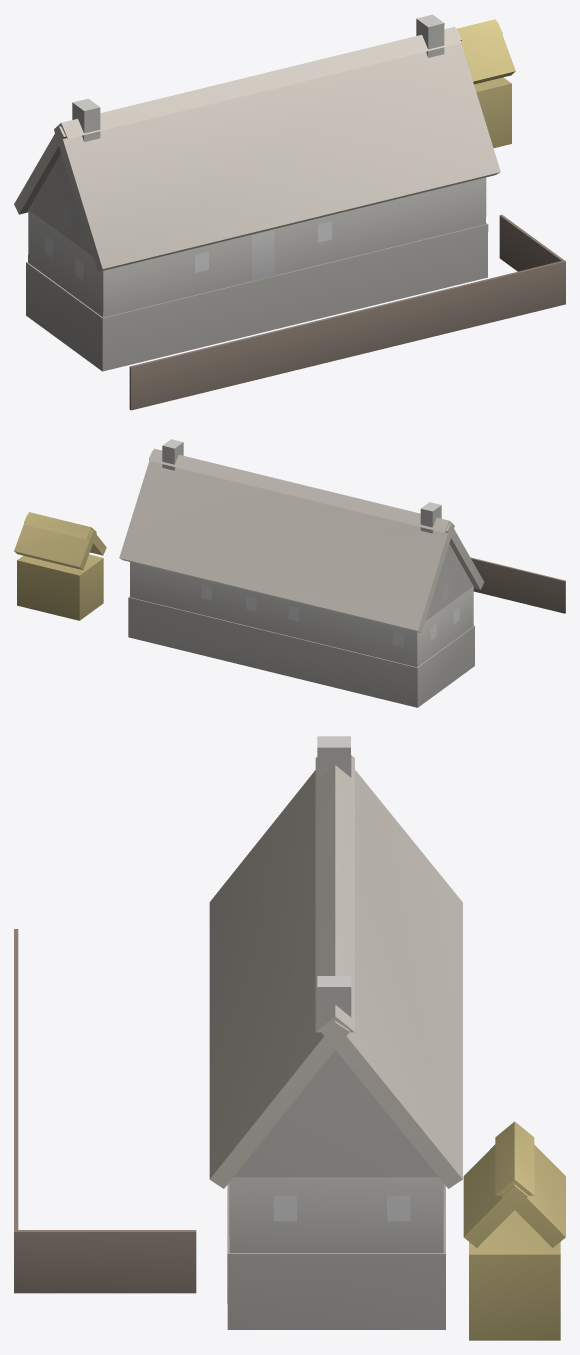
Rendered from farm_1.glb.
The picture shows the model from 3 angles, top to bottom: view 1: azimuth 30°, elevation 25°; view 2: azimuth 150°, elevation 25°; view 3: azimuth 270°, elevation 25°; orthographic projection. The views are drawn at different scales.
Parts seen in each view (by area): view 1: farm_1; view 2: farm_1; view 3: farm_1.
Part boxes in pixels (x1=…): farm_1: x1=14, y1=14, x2=565, y2=410; farm_1: x1=14, y1=439, x2=565, y2=707; farm_1: x1=14, y1=736, x2=565, y2=1340.
Size of the model in its own units: 25.09 by 10.36 by 15.5.
